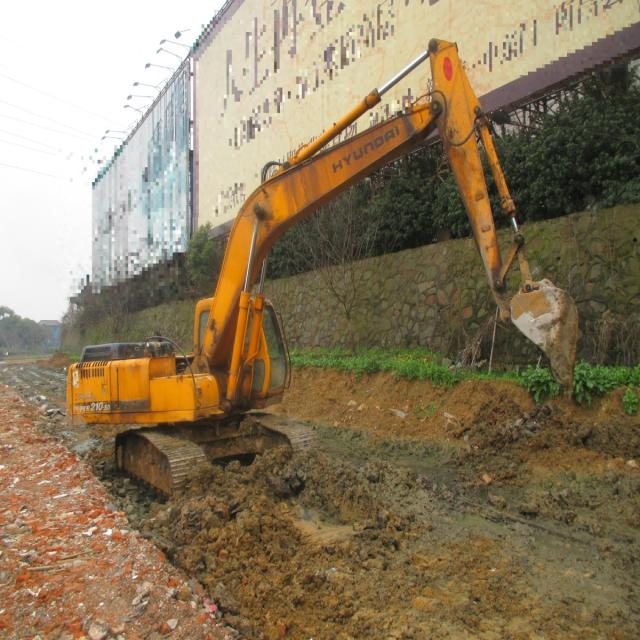excavator: (66, 37, 577, 498)
